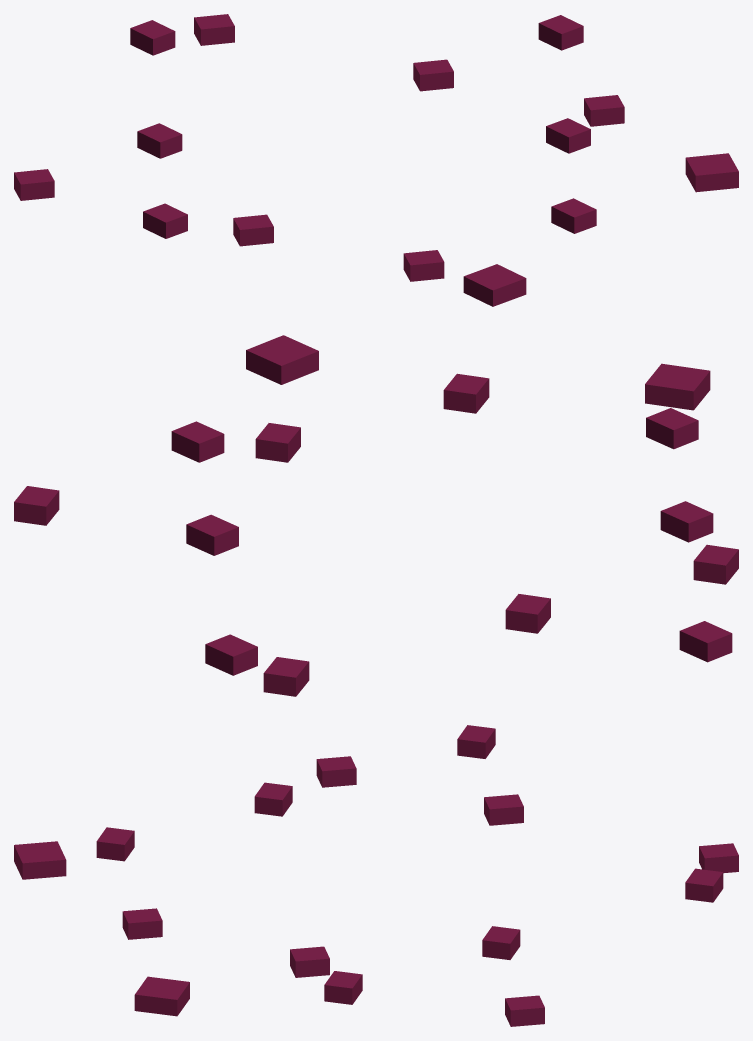
The model's file is ELEMENTS.glb.
The picture shows the model from 3 angles, top to bottom: view 1: azimuth 30°, elevation 25°; view 2: azimuth 150°, elevation 25°; view 3: azimuth 270°, elevation 25°; orthographic projection. The views are drawn at different scales.
Visible parts, largest first — view 1: Cube.007; view 2: Cube.007; view 3: Cube.007.
Part boxes in pixels (x1,y1,x2,y2): Cube.007: (14, 14, 738, 306); Cube.007: (14, 335, 738, 696); Cube.007: (14, 725, 738, 1026).
Size of the model in its own units: 7.07 by 0.19 by 7.59.
